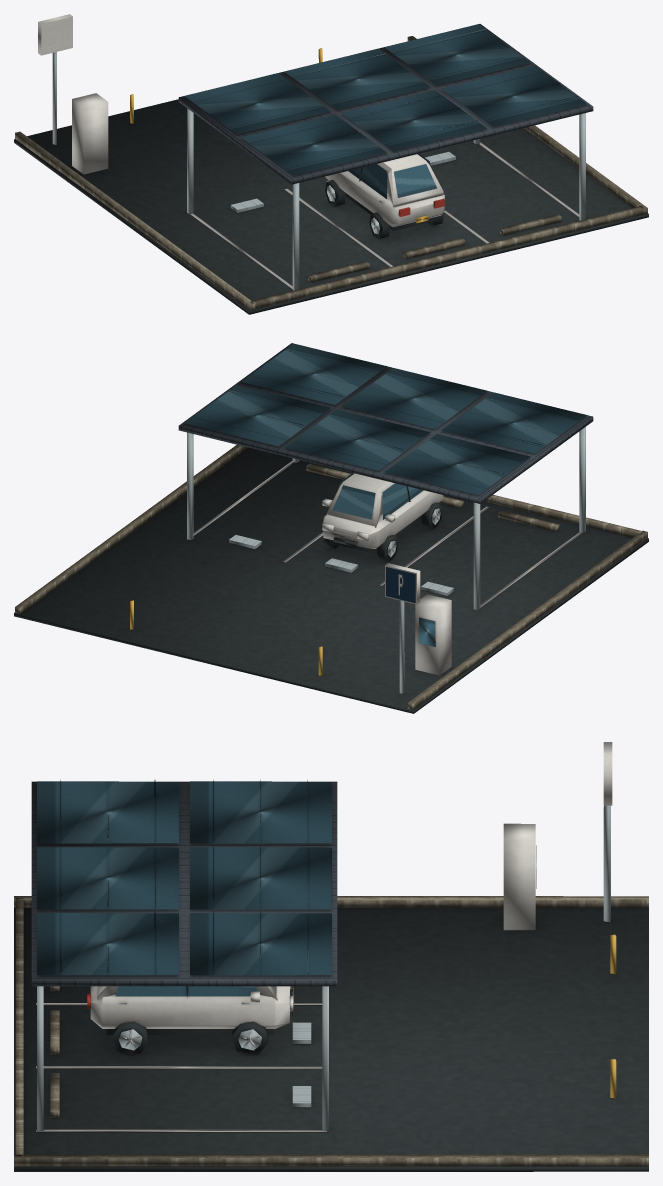
Rendered from parking_002.obj.
3 renders of one model, top to bottom at view 1: azimuth 30°, elevation 25°; view 2: azimuth 150°, elevation 25°; view 3: azimuth 270°, elevation 25°, orthographic. The views are drawn at different scales.
Visible parts, largest first — view 1: parking_002; view 2: parking_002; view 3: parking_002.
Part boxes in pixels (left/top/right/bottom): parking_002: left=14, top=14, right=648, bottom=314; parking_002: left=14, top=343, right=648, bottom=713; parking_002: left=14, top=742, right=648, bottom=1171.
Bounding box in the file's own units: 10.6 × 3.25 × 10.8.
Materials: 1 (1 with a texture image).
